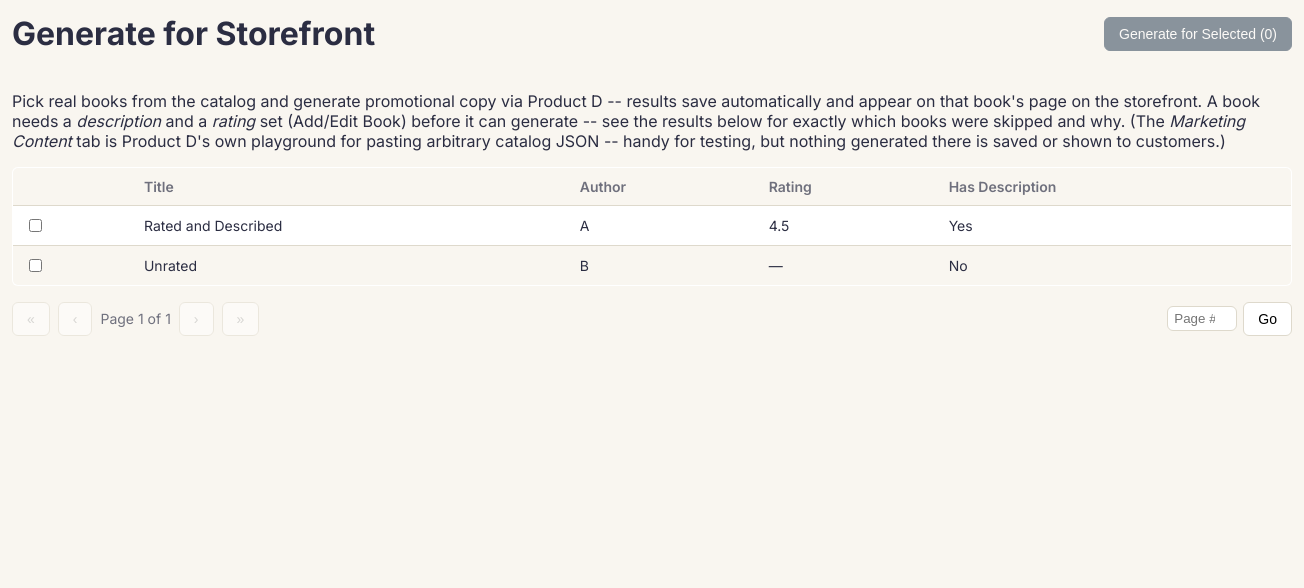
Test: MarketingContentPage › shows a generated draft's headline and body copy
This screenshot has width=1304, height=588.
Check: the text "Rated and Described" is shown, box x1=132 y1=205 x2=568 y2=245
Click the checkbox named "Select Rated and Described": (36, 225) x1=29 y1=219 x2=42 y2=232
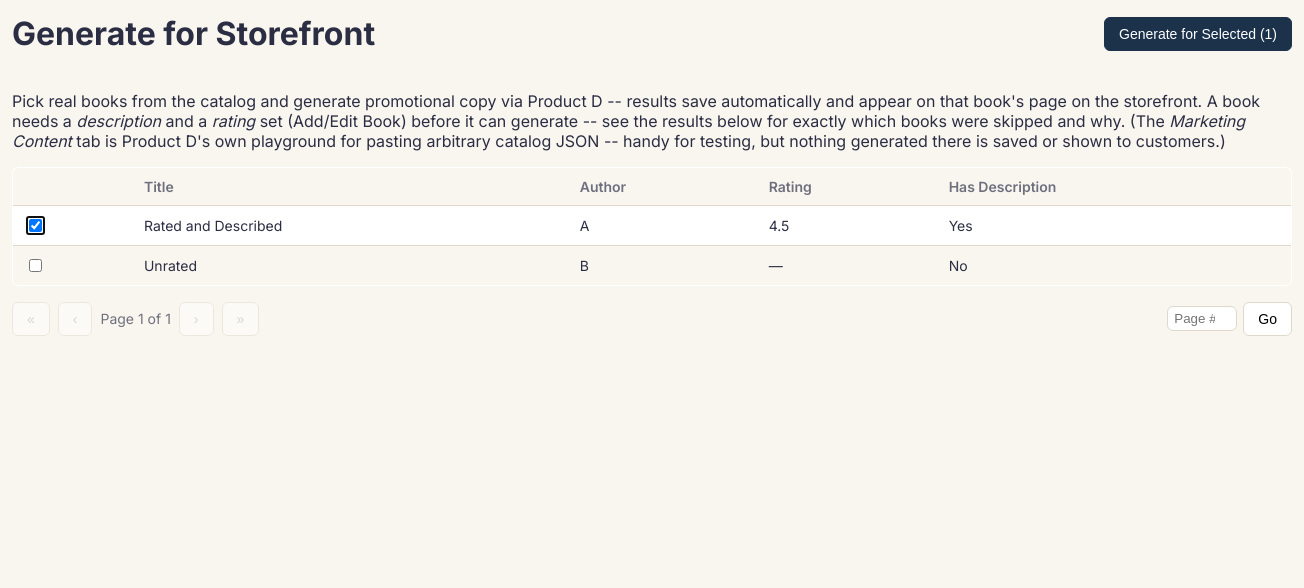
Click the button "Generate for Selected (1)": (1198, 34) x1=1104 y1=17 x2=1292 y2=51
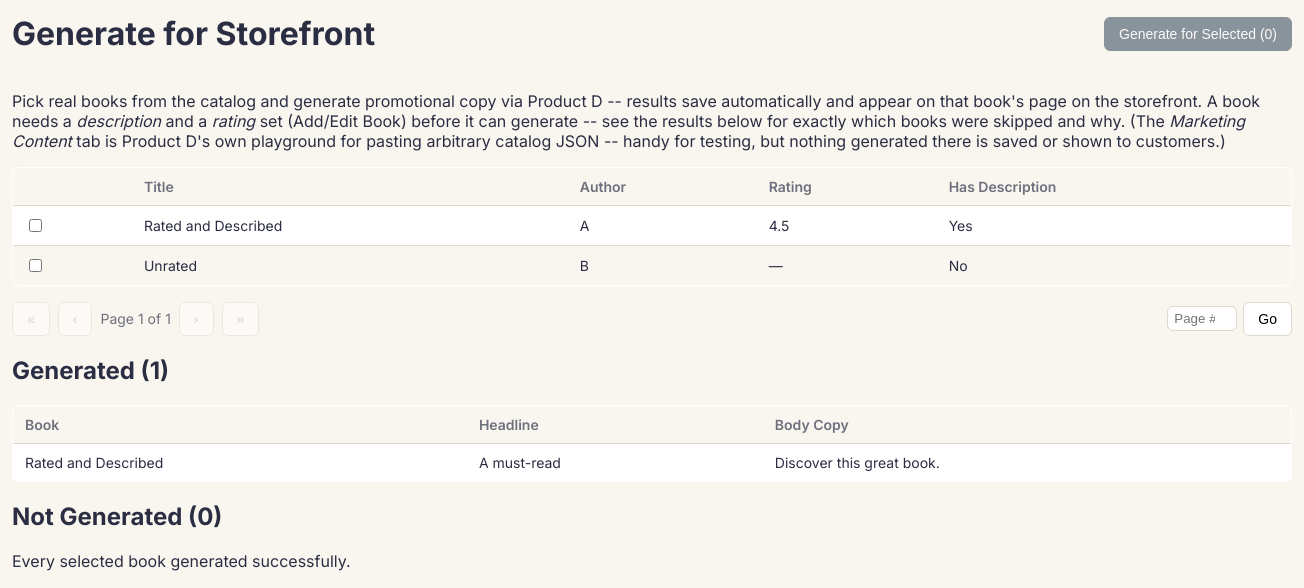
Check: the text "A must-read" is shown, box x1=467 y1=443 x2=763 y2=481
Check: the text "Discover this great book." is shown, box x1=763 y1=443 x2=1292 y2=481
